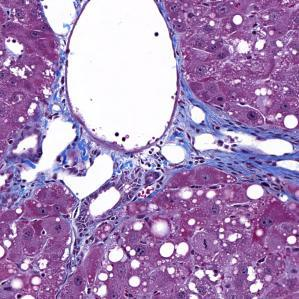fibrosis: (16, 120, 133, 209), (170, 110, 293, 178)
